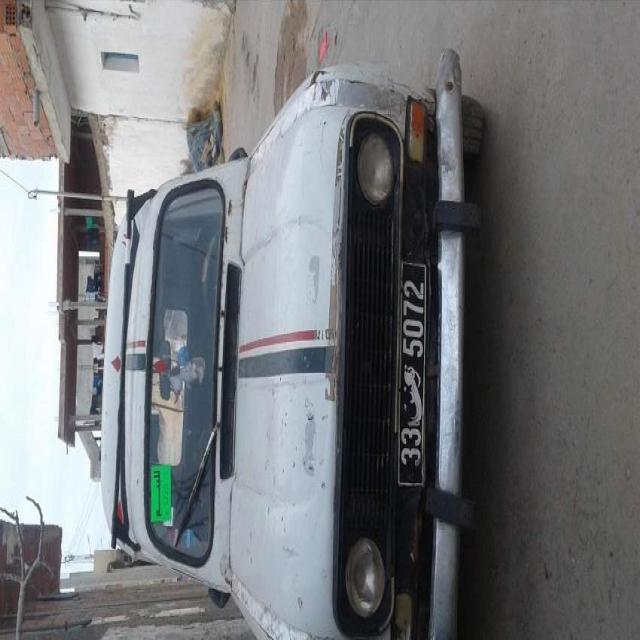licence plate: (399, 264, 426, 485)
